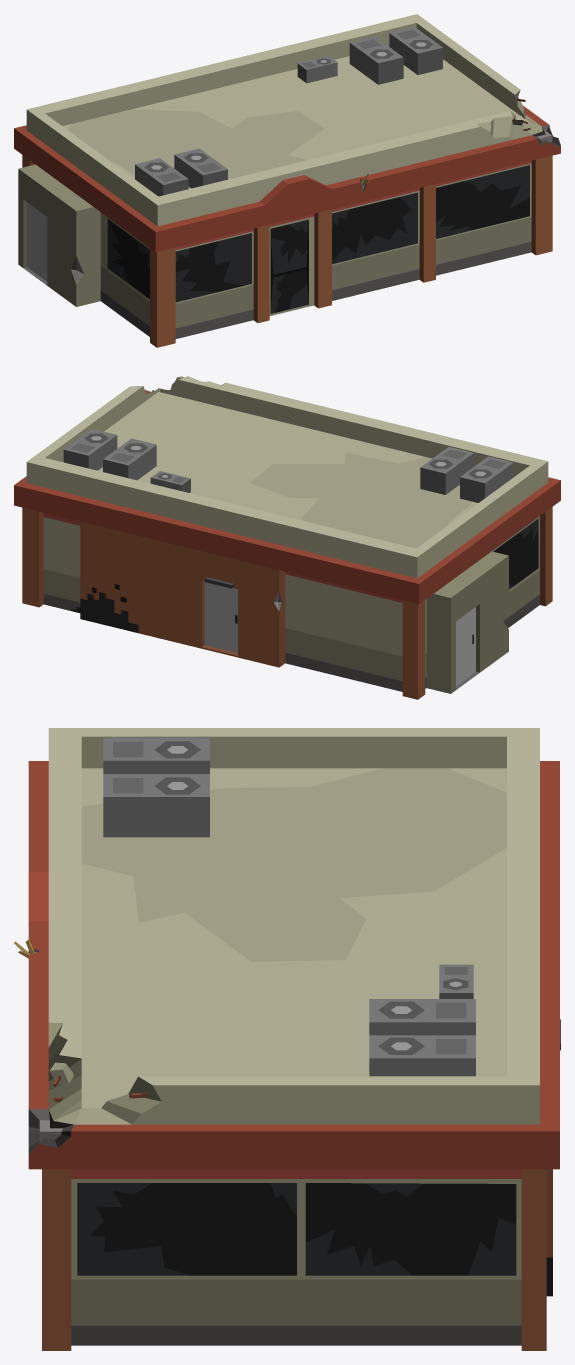
The model's file is SA_Bld_ShopOld_Damaged_01.gltf.
3 views of the same model, one above another, from view 1: azimuth 30°, elevation 25°; view 2: azimuth 150°, elevation 25°; view 3: azimuth 270°, elevation 25° (orthographic). The views are drawn at different scales.
Parts seen in each view (by area): view 1: SA_Bld_ShopOld_Damaged_01; view 2: SA_Bld_ShopOld_Damaged_01; view 3: SA_Bld_ShopOld_Damaged_01.
Part boxes in pixels (x1,y1,x2,y2): SA_Bld_ShopOld_Damaged_01: (14,14,560,347); SA_Bld_ShopOld_Damaged_01: (14,376,560,699); SA_Bld_ShopOld_Damaged_01: (14,728,560,1350).
Size of the model in its own units: 23.18 by 7.7 by 13.99.
1 material, 1 textured.
